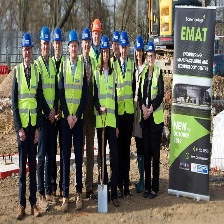helmet: (39, 24, 51, 47), (21, 32, 34, 51), (133, 35, 145, 54), (144, 37, 156, 56), (119, 30, 130, 50), (67, 29, 80, 45), (80, 29, 92, 45), (100, 35, 111, 52), (90, 19, 100, 37), (111, 27, 120, 46), (53, 29, 62, 44)
person: (10, 28, 41, 223), (35, 27, 60, 214), (60, 31, 85, 215), (113, 26, 138, 207), (97, 31, 119, 214), (79, 27, 101, 201), (142, 37, 165, 200), (133, 29, 147, 196), (51, 24, 66, 72), (89, 19, 103, 61), (109, 29, 119, 66)
vest: (12, 61, 42, 133), (94, 64, 118, 136), (37, 56, 60, 129), (65, 52, 85, 126), (143, 68, 162, 131), (117, 57, 135, 119)
